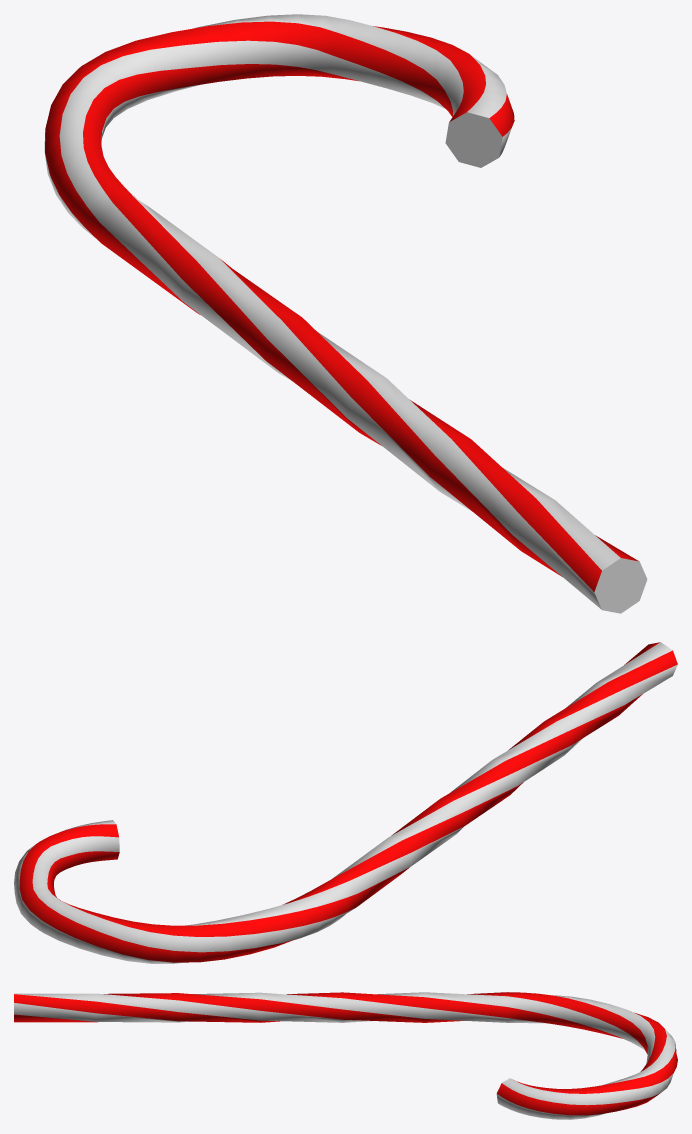
File: candy_stick.FBX
3 renders of one model, top to bottom at view 1: azimuth 30°, elevation 25°; view 2: azimuth 150°, elevation 25°; view 3: azimuth 270°, elevation 25°, orthographic. The views are drawn at different scales.
Parts seen in each view (by area): view 1: Loft001; view 2: Loft001; view 3: Loft001.
Boxes of the visible parts, x1=… form: Loft001: x1=44, y1=14, x2=647, y2=613; Loft001: x1=14, y1=642, x2=677, y2=963; Loft001: x1=14, y1=992, x2=677, y2=1119.
Bounding box in the file's own units: 3.83 × 0.4575 × 9.86.
